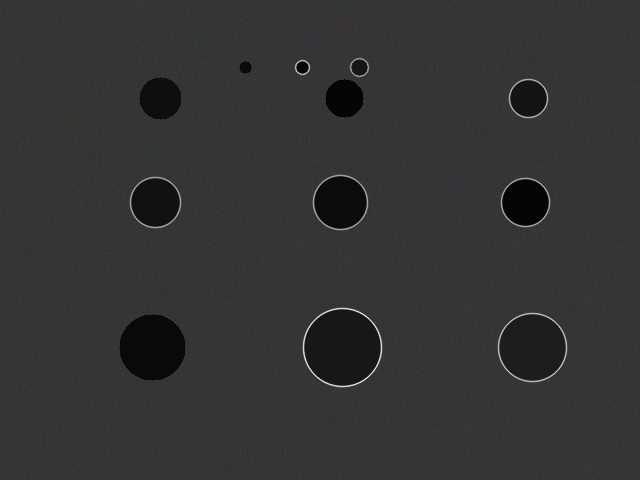hole: (303, 308, 381, 386), (498, 313, 566, 381), (119, 314, 185, 380), (313, 175, 367, 229), (130, 177, 180, 227), (501, 178, 549, 226), (139, 77, 181, 119), (325, 79, 363, 117), (509, 79, 547, 117), (350, 58, 368, 76), (295, 60, 309, 74), (239, 61, 251, 73)
